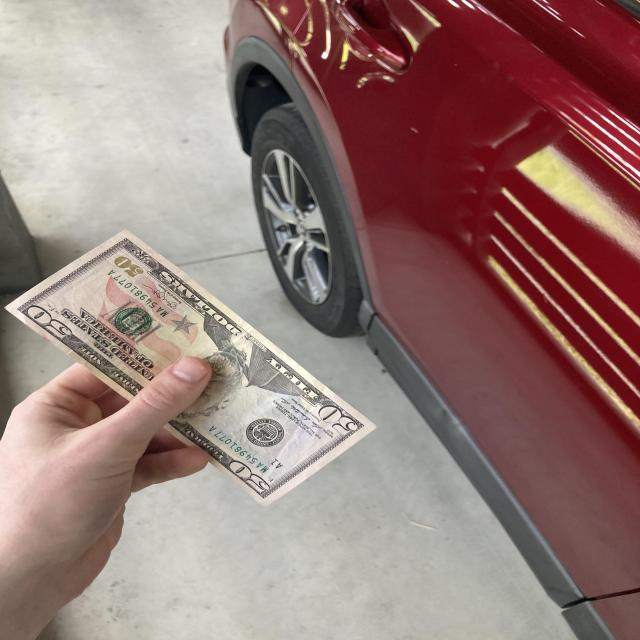fifty: (3, 200, 378, 535)
